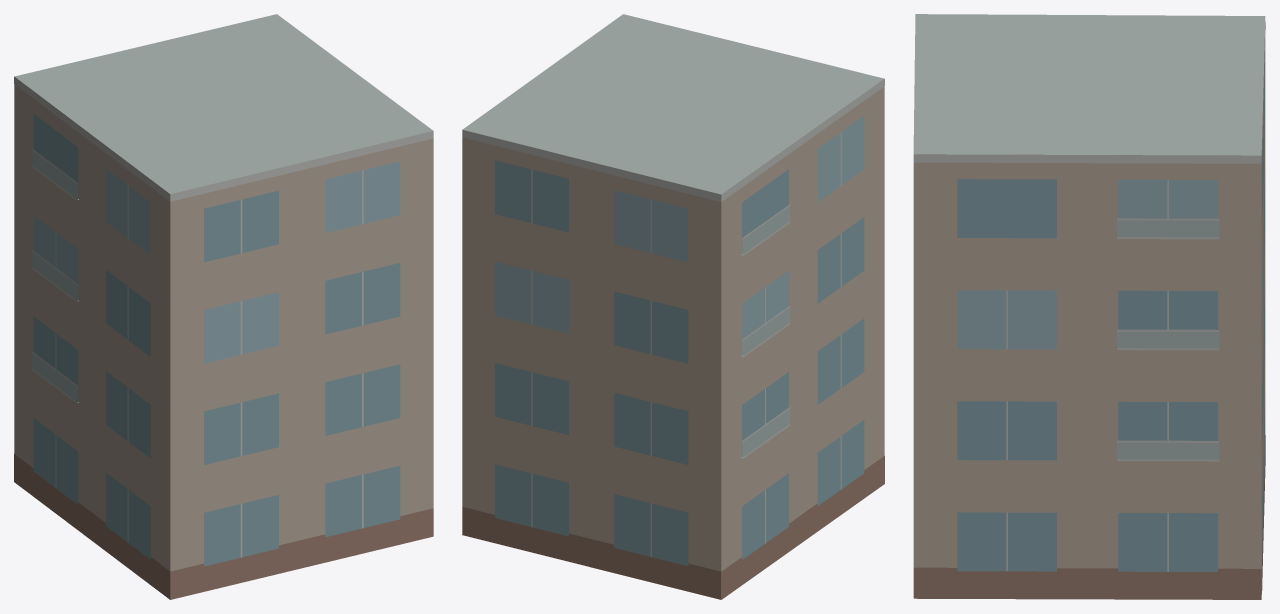
File: survey-upis-32608953.glb
3 views of the same model, side by side, from view 1: azimuth 30°, elevation 25°; view 2: azimuth 150°, elevation 25°; view 3: azimuth 270°, elevation 25° (orthographic). The views are drawn at different scales.
Parts seen in each view (by area): view 1: survey-upis-32608953.tmp; view 2: survey-upis-32608953.tmp; view 3: survey-upis-32608953.tmp.
Part boxes in pixels (x1,y1,x2,y2): survey-upis-32608953.tmp: [14, 14, 433, 599]; survey-upis-32608953.tmp: [462, 14, 884, 599]; survey-upis-32608953.tmp: [913, 14, 1265, 599].
Size of the model in its own units: 9.05 by 13.2 by 9.49.
